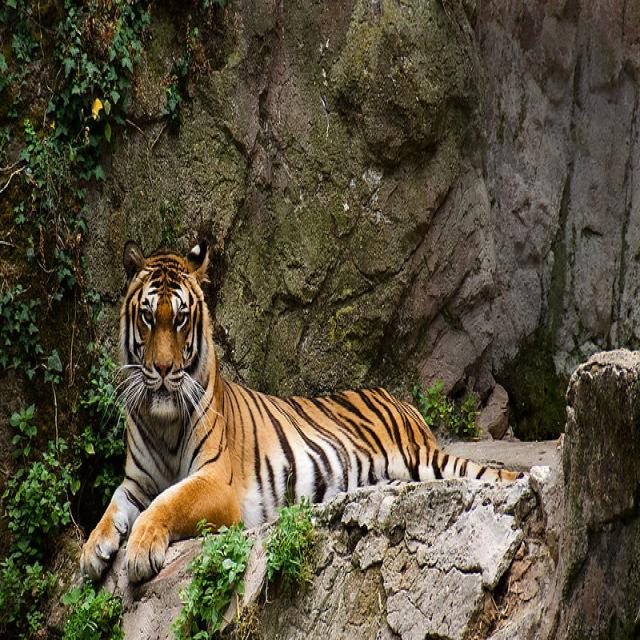Tiger: (86, 244, 524, 577)
